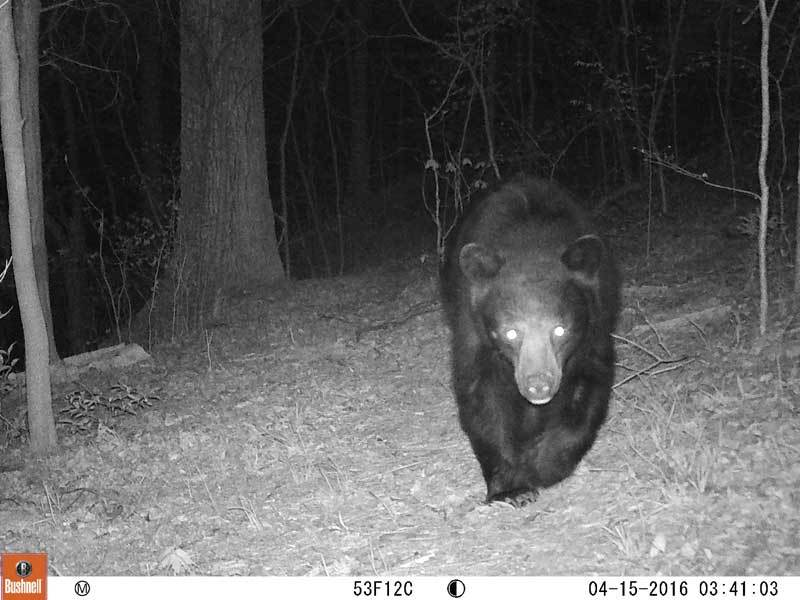bear: (424, 156, 624, 506)
